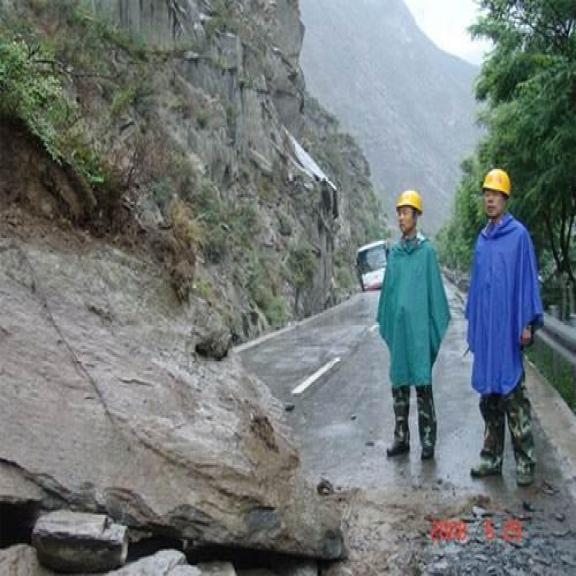no_safety_vest: (463, 216, 545, 391), (376, 236, 453, 394)
